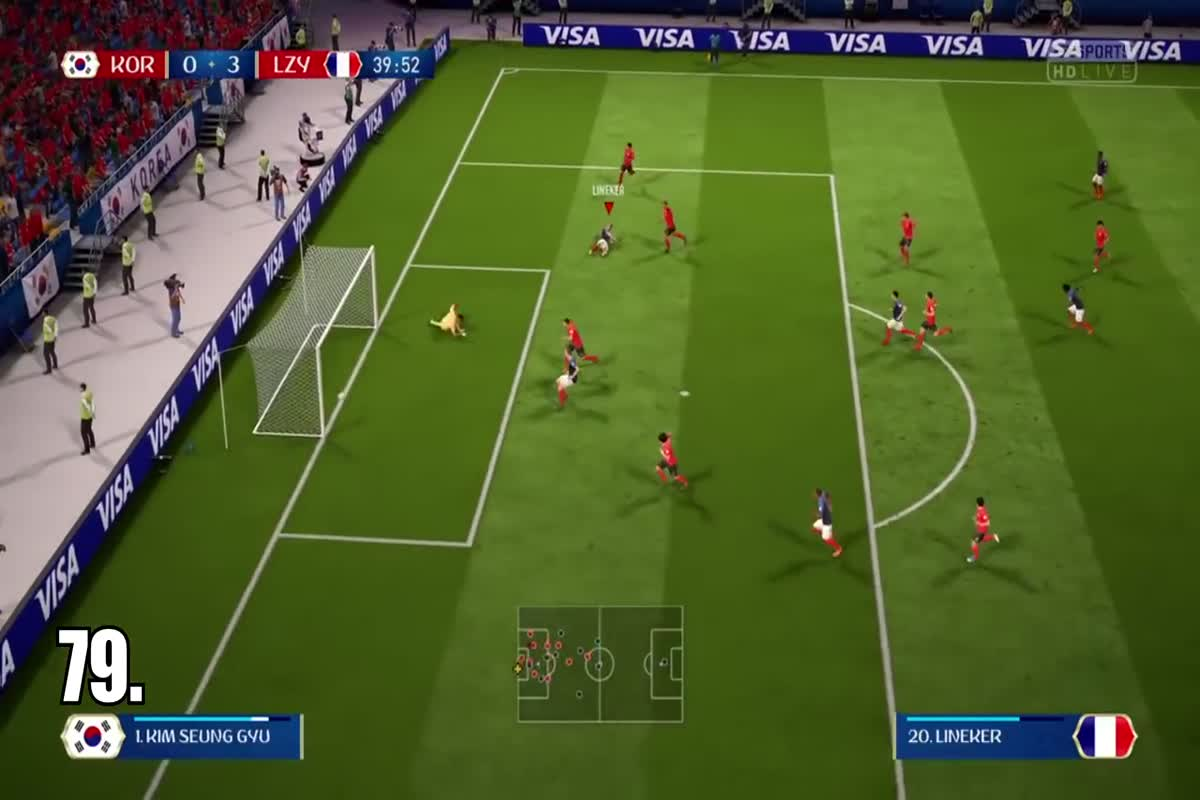ball: (332, 386, 355, 405)
